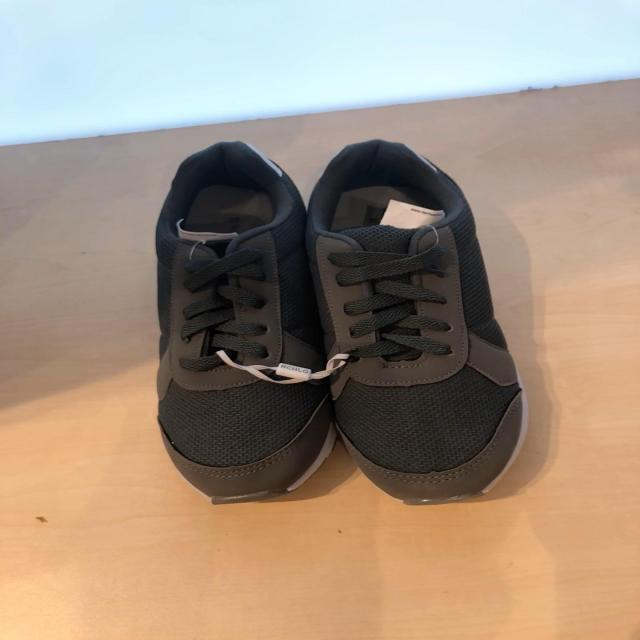shoe: (307, 141, 525, 494), (154, 143, 337, 506)
